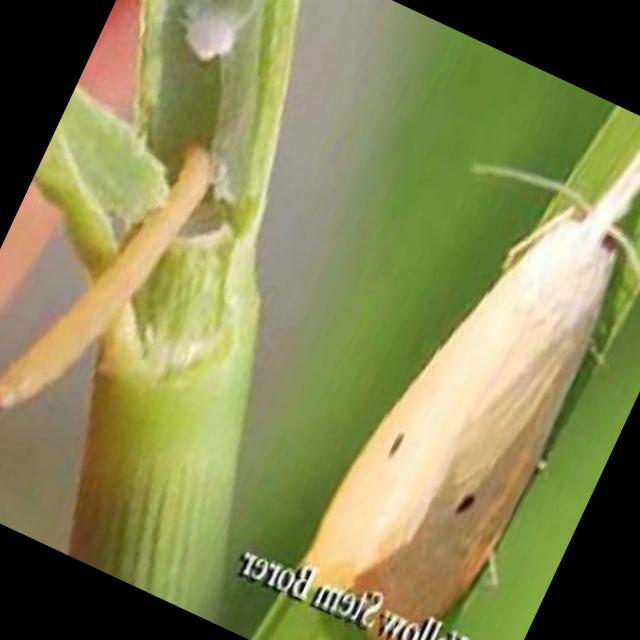stem-borer: (305, 86, 640, 630)
